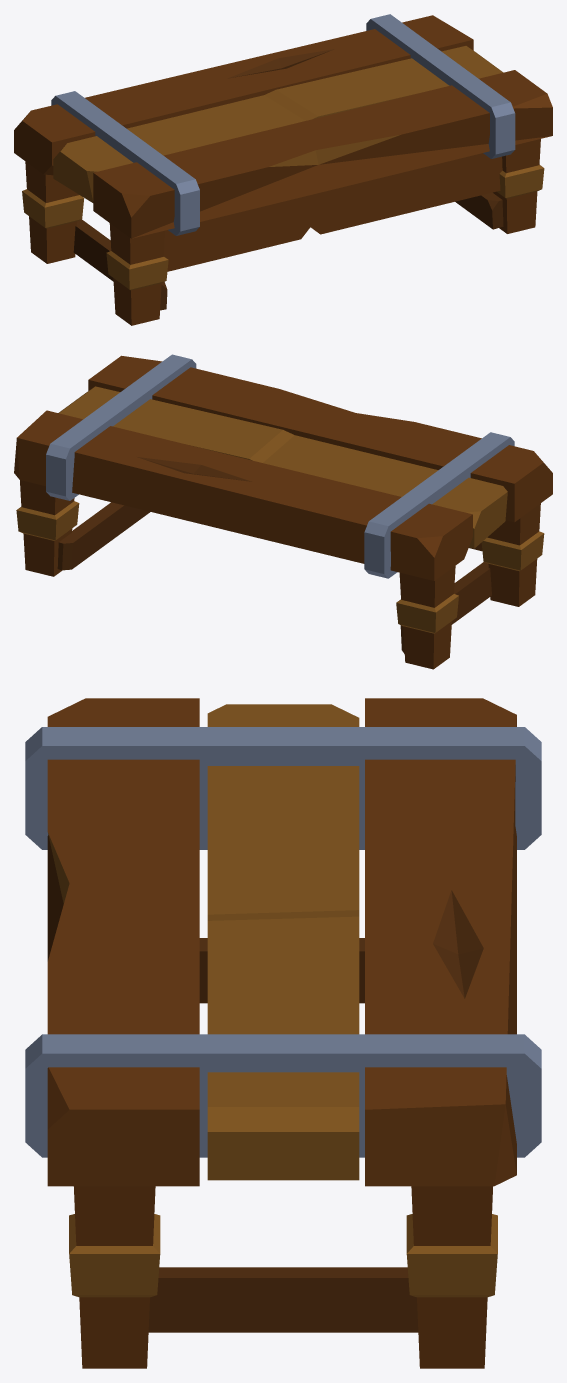
The model's file is SM_FrontDesk.fbx.
3 renders of one model, top to bottom at view 1: azimuth 30°, elevation 25°; view 2: azimuth 150°, elevation 25°; view 3: azimuth 270°, elevation 25°, orthographic. The views are drawn at different scales.
Visible parts, largest first — view 1: SM_Desk; view 2: SM_Desk; view 3: SM_Desk.
Boxes of the visible parts, x1,y1,x2,y2 form: SM_Desk: (14, 14, 552, 325); SM_Desk: (14, 354, 552, 669); SM_Desk: (25, 698, 541, 1368).
Bounding box in the file's own units: 231 × 73.6 × 122.
